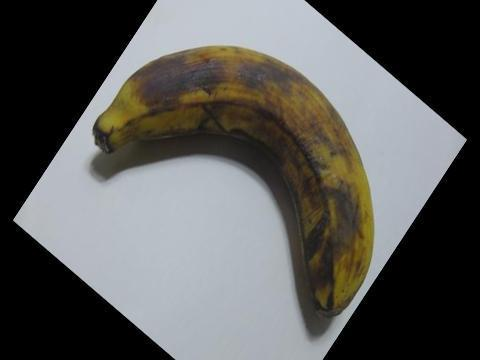rotten: (78, 38, 395, 327)
